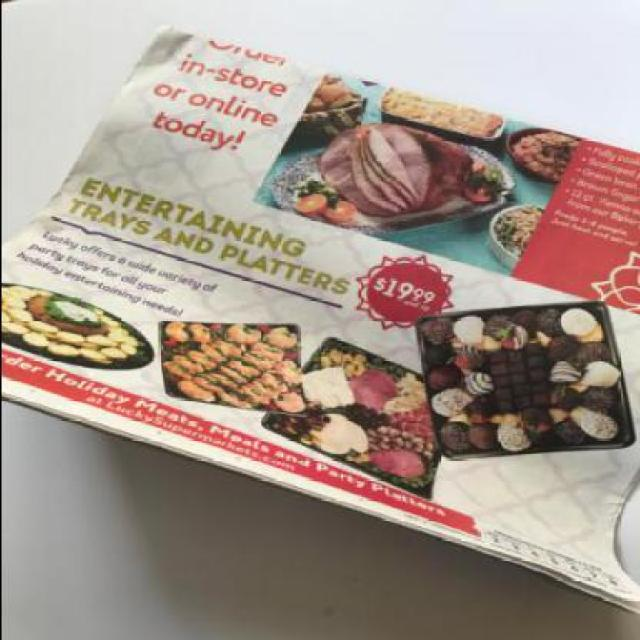PAPER: (1, 25, 638, 612)
